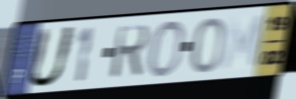1: (76, 25, 95, 84)
M: (219, 13, 266, 75)
O: (146, 18, 187, 80), (190, 16, 226, 76)
R: (108, 23, 151, 82)
U: (25, 25, 79, 90)
